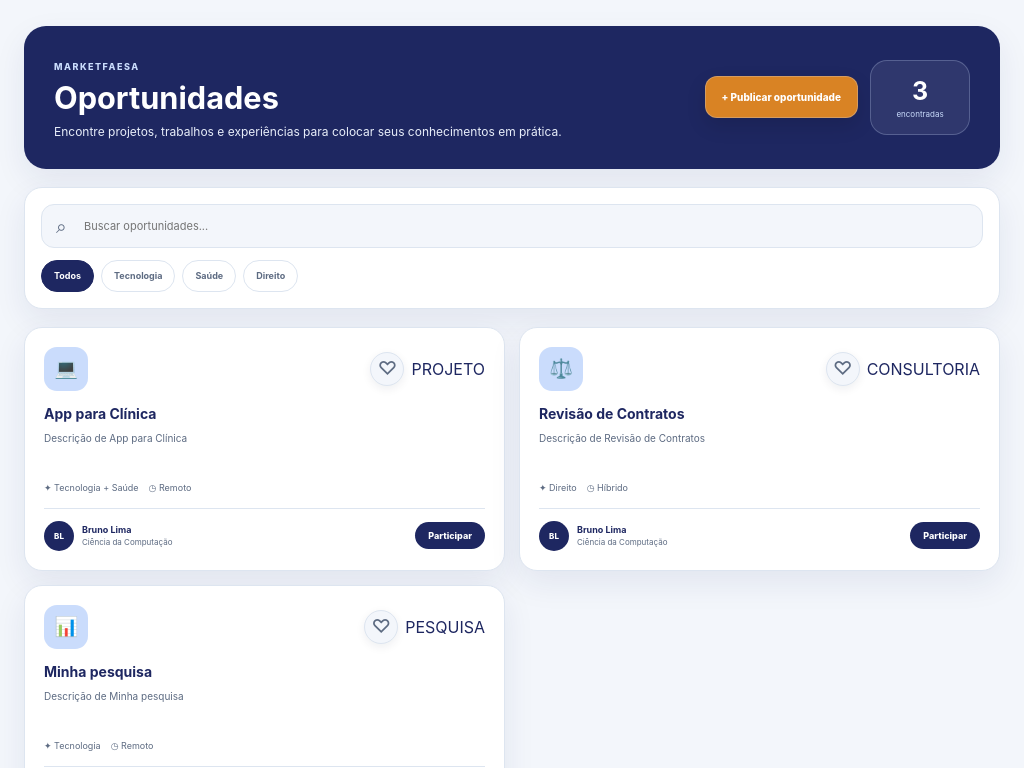
Test: Oportunidades › salva e remove dos salvos com PUT e DELETE /salvo
Expected: the heading "App para Clínica" is shown, [44,405,156,422]
What coordinates should you click on to do the following:
click the button named "Salvar oportunidade"
I would click on:
 (387, 369)
Its box is [370,352,404,386].
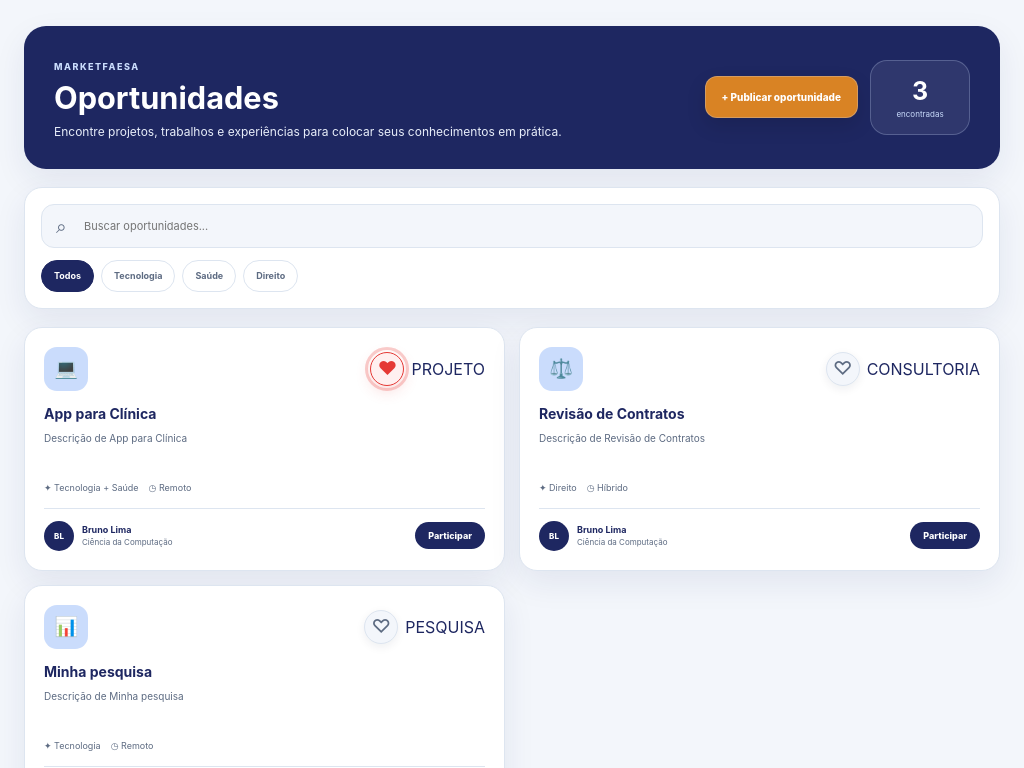
Now the button named "Remover dos salvos" is shown
What coordinates should you click on to do the following:
click the button named "Remover dos salvos"
I would click on:
 (387, 369)
Its box is [370,352,404,386].
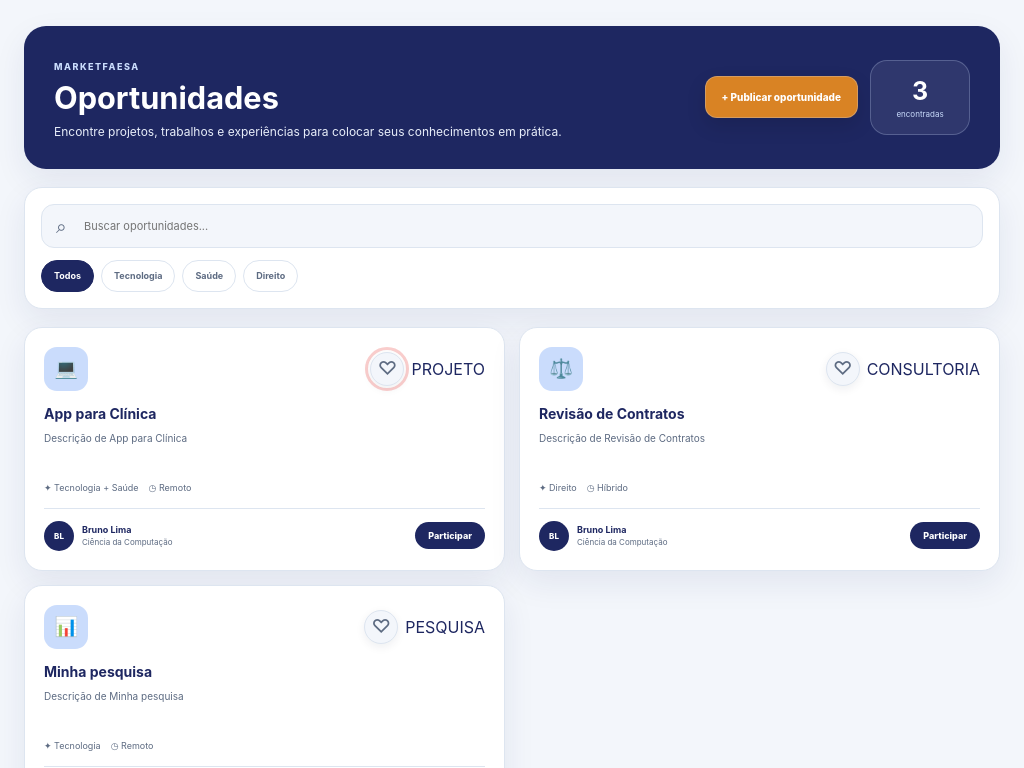
Now the button named "Salvar oportunidade" is shown, box [370,352,404,386]
